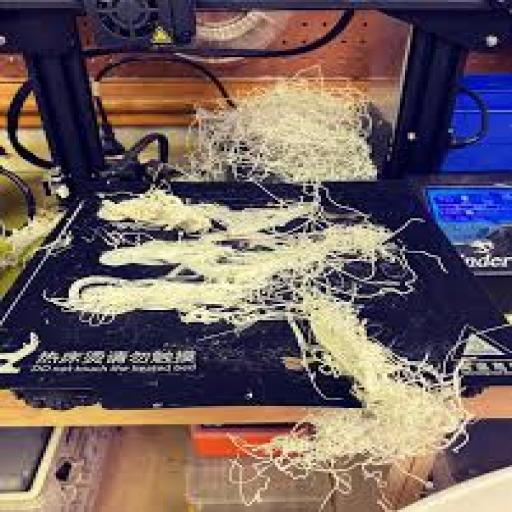spaghetti: (99, 180, 416, 326), (178, 54, 406, 190), (289, 336, 467, 498)
